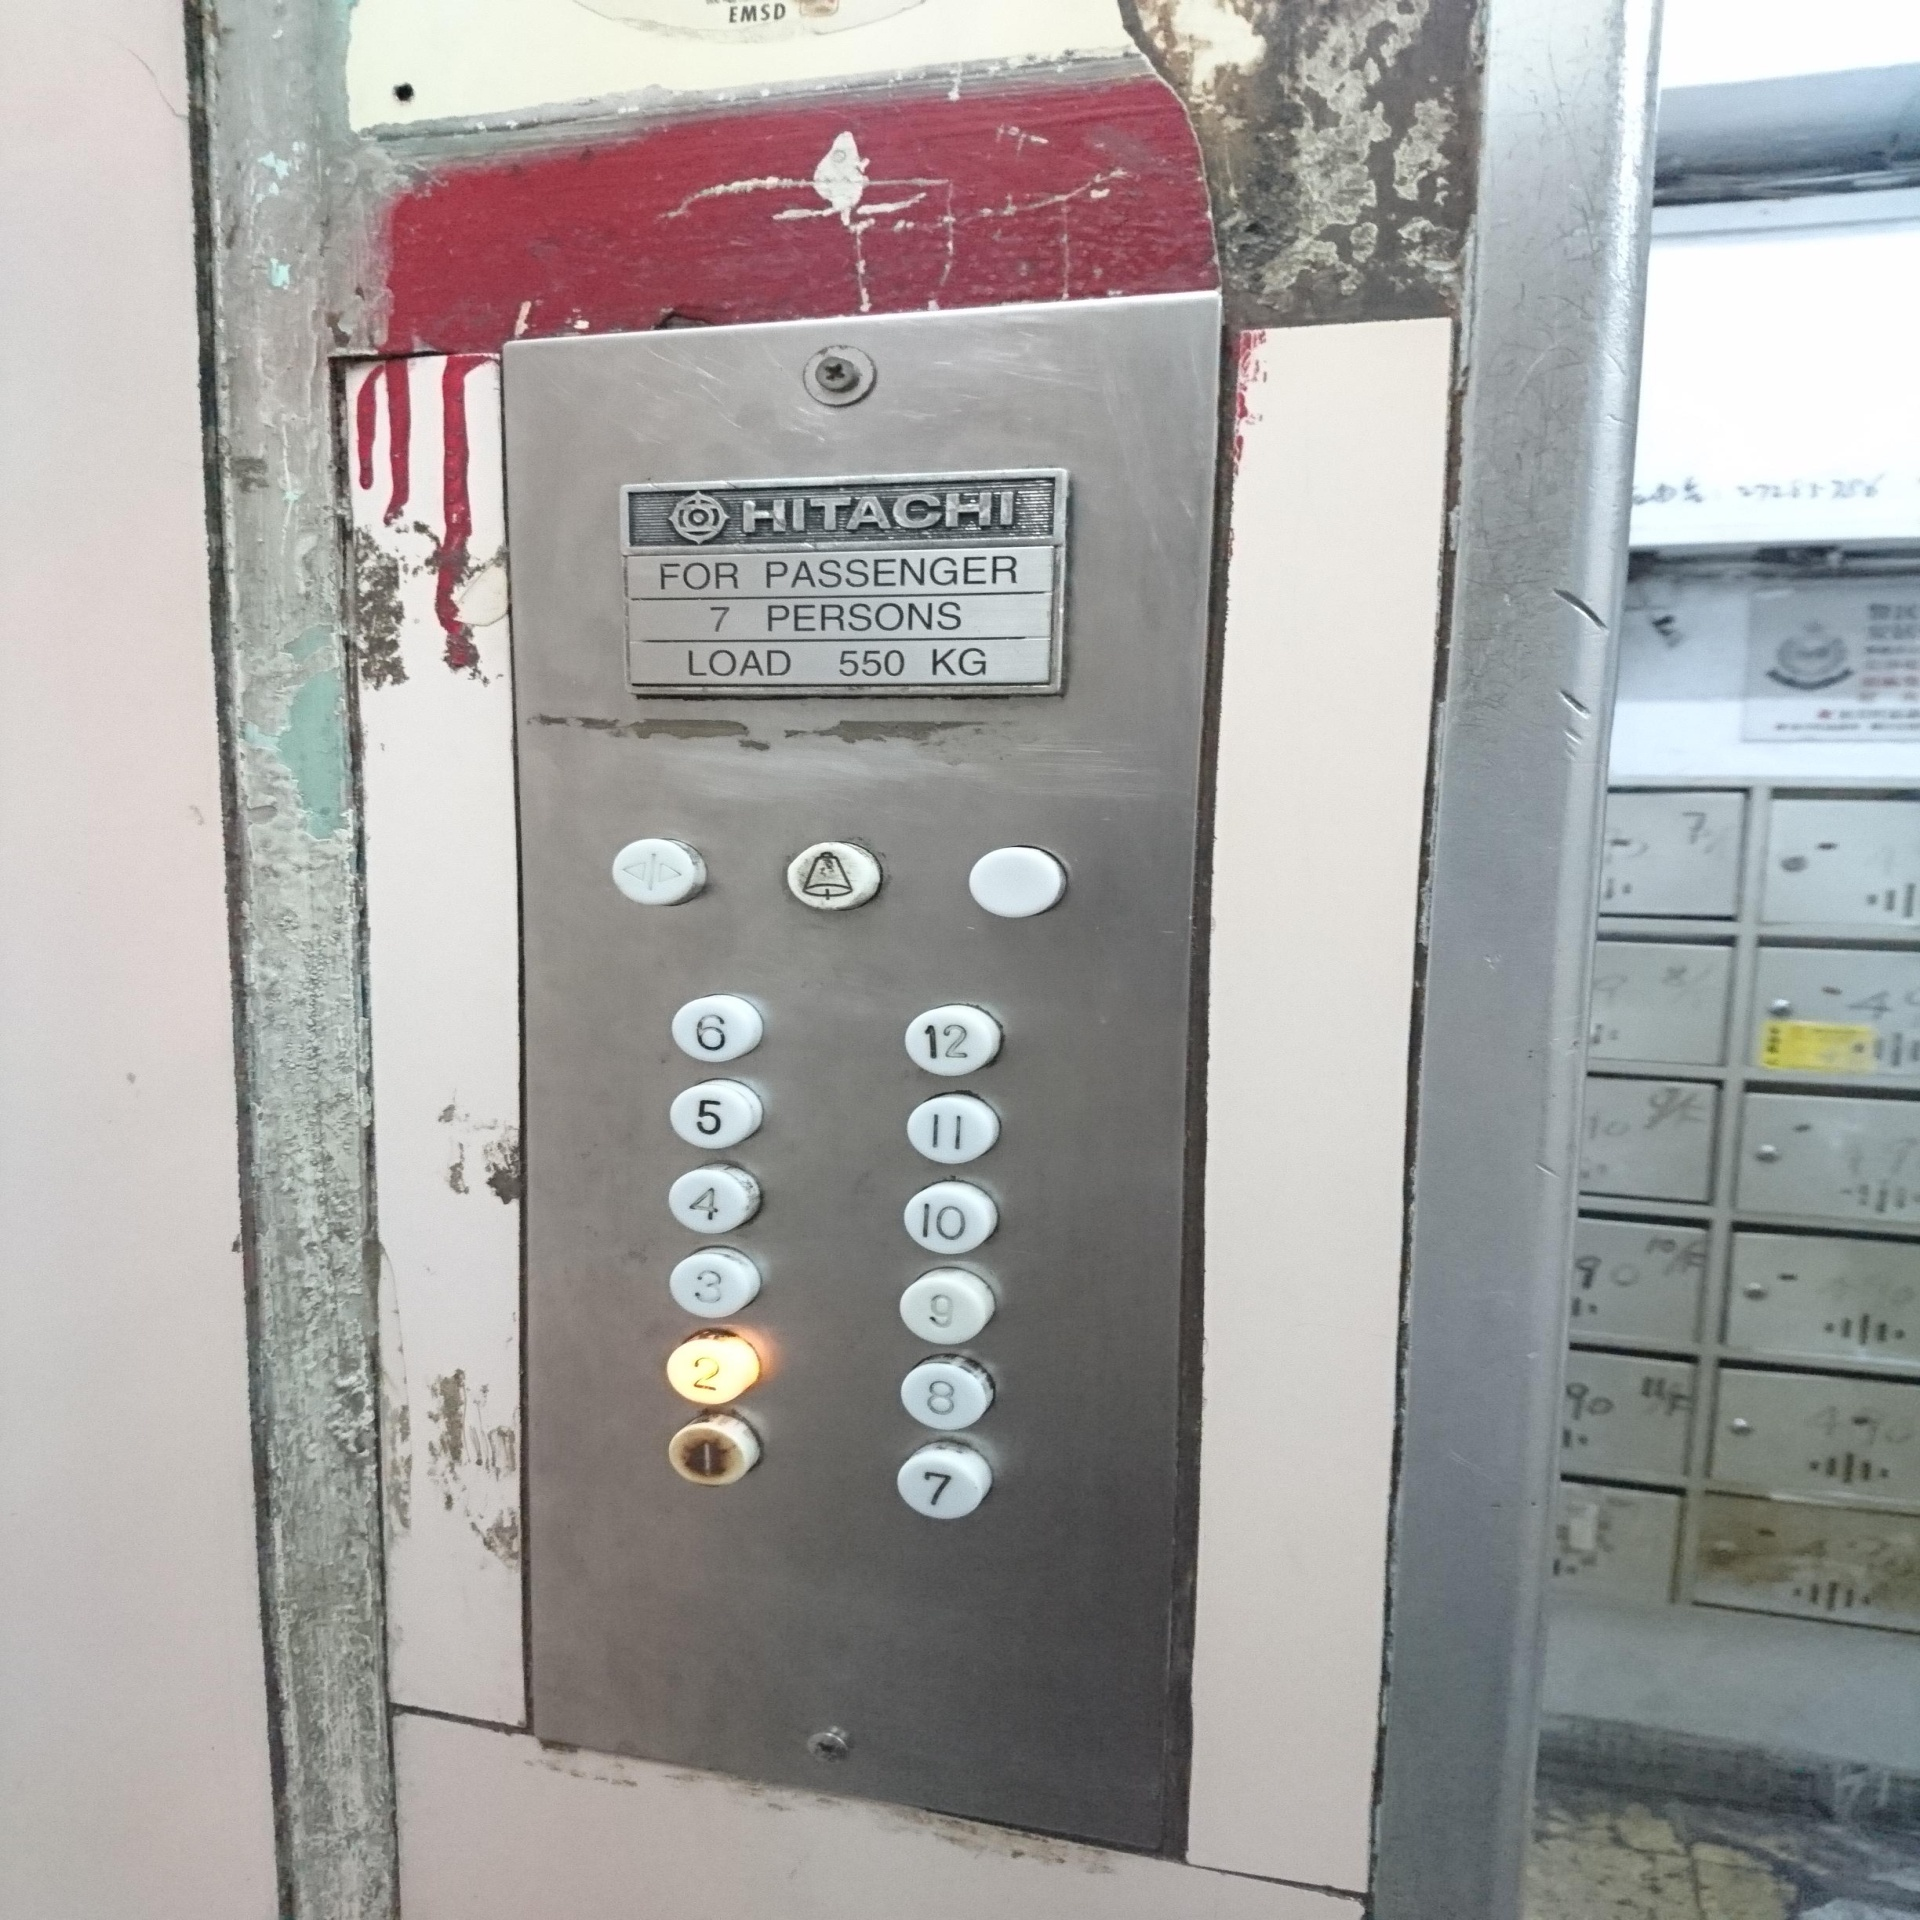1: (663, 1408, 768, 1493)
10: (898, 1176, 1000, 1261)
11: (900, 1087, 1006, 1169)
12: (893, 999, 1007, 1080)
2: (661, 1327, 763, 1408)
3: (663, 1243, 765, 1324)
4: (663, 1160, 763, 1236)
5: (666, 1073, 770, 1153)
6: (661, 986, 774, 1067)
7: (891, 1438, 999, 1524)
8: (893, 1350, 999, 1436)
9: (893, 1264, 1000, 1350)
alarm: (774, 833, 886, 914)
empty: (958, 842, 1073, 921)
keyhole: (804, 1727, 851, 1765)
open: (603, 832, 716, 913)
